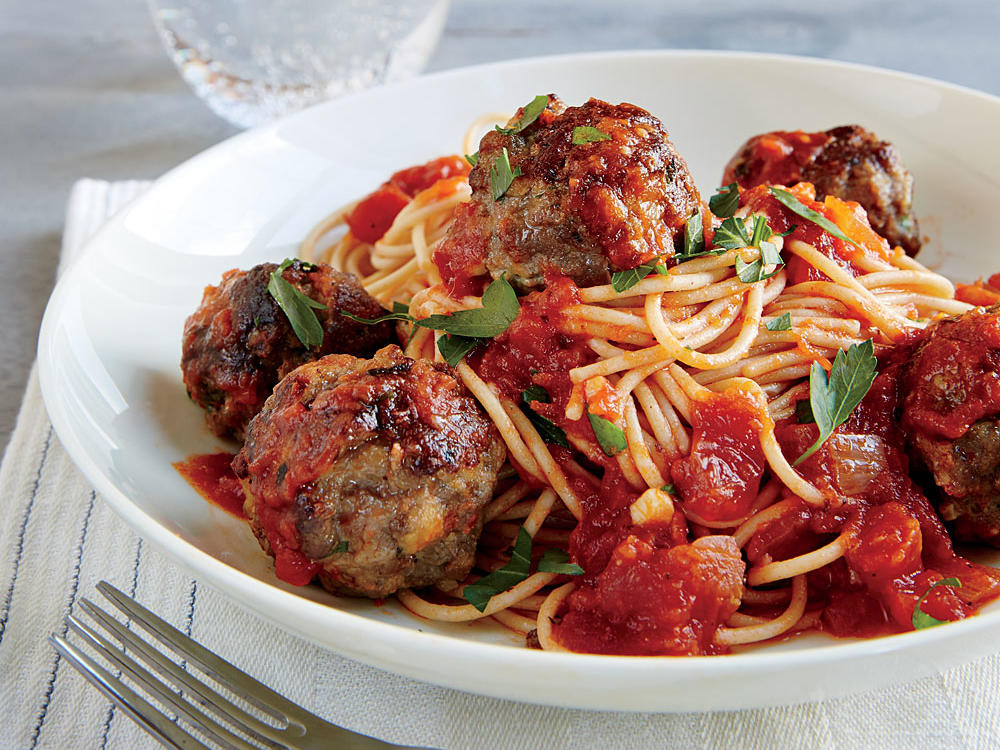meatballs: (244, 358, 500, 590), (452, 103, 710, 272), (174, 262, 390, 420), (719, 123, 921, 259), (904, 309, 1000, 538)
plain spaghetti: (547, 283, 810, 508)
